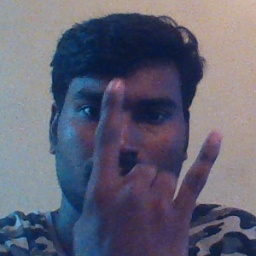V: (71, 77, 226, 256)
